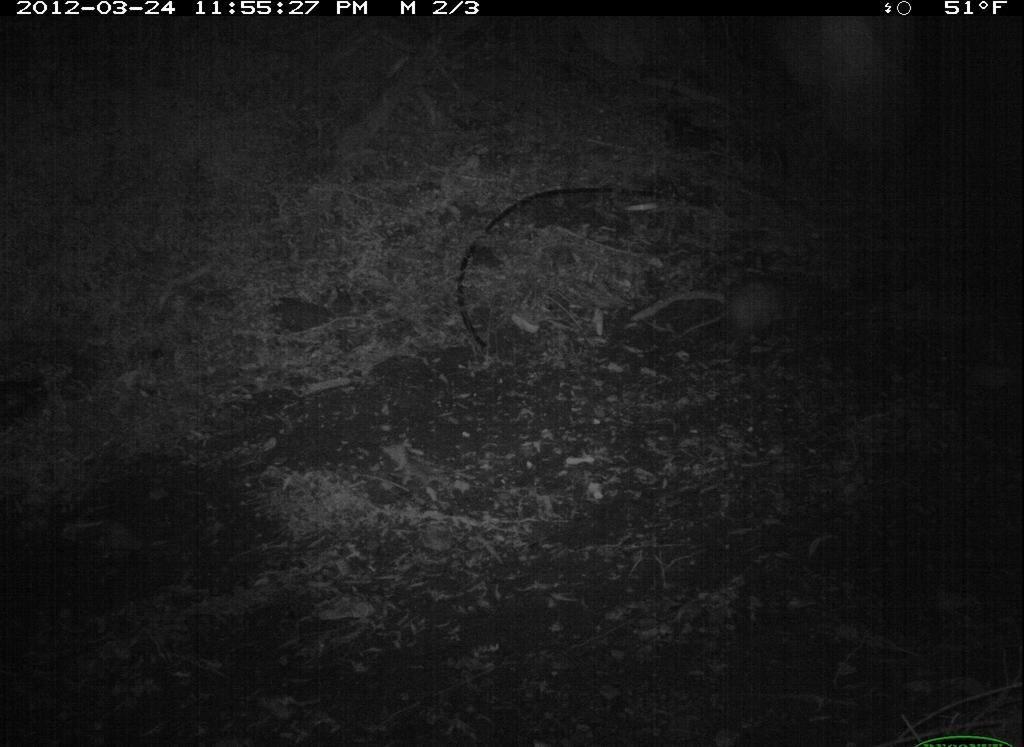opossum: (626, 262, 845, 364)
